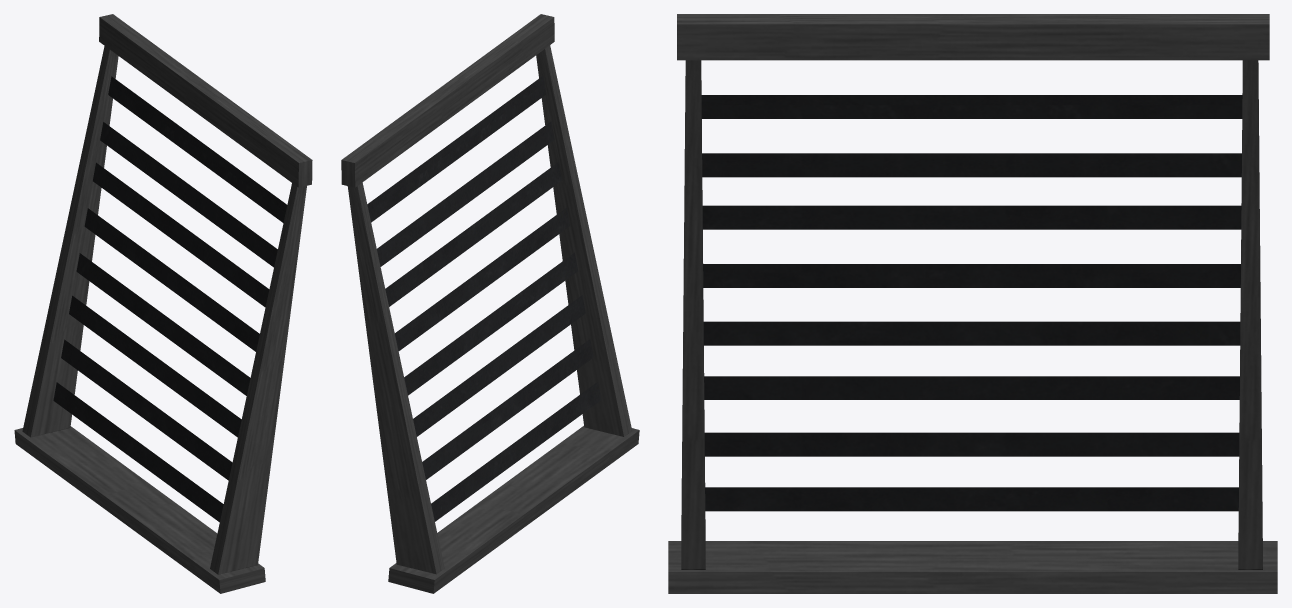
File: Rail_Low.fbx
3 renders of one model, left to right at view 1: azimuth 30°, elevation 25°; view 2: azimuth 150°, elevation 25°; view 3: azimuth 270°, elevation 25°, orthographic. The views are drawn at different scales.
Visible parts, largest first — view 1: rail_low; view 2: rail_low; view 3: rail_low.
Boxes of the visible parts, x1,y1,x2,y2 form: rail_low: (14, 14, 312, 593); rail_low: (341, 14, 639, 593); rail_low: (668, 14, 1277, 593).
Bounding box in the file's own units: 0.0027 × 0.011 × 0.00998.
1 material, 1 textured.
